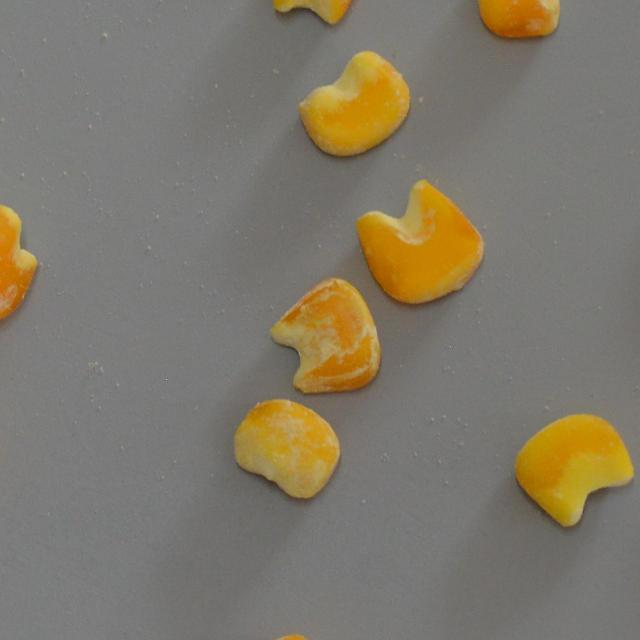no_canjicado: (513, 412, 632, 529)
pelicula: (356, 178, 483, 303), (268, 275, 381, 392), (297, 50, 410, 158), (232, 398, 340, 500), (0, 204, 40, 324), (476, 0, 559, 38), (272, 0, 362, 20)
